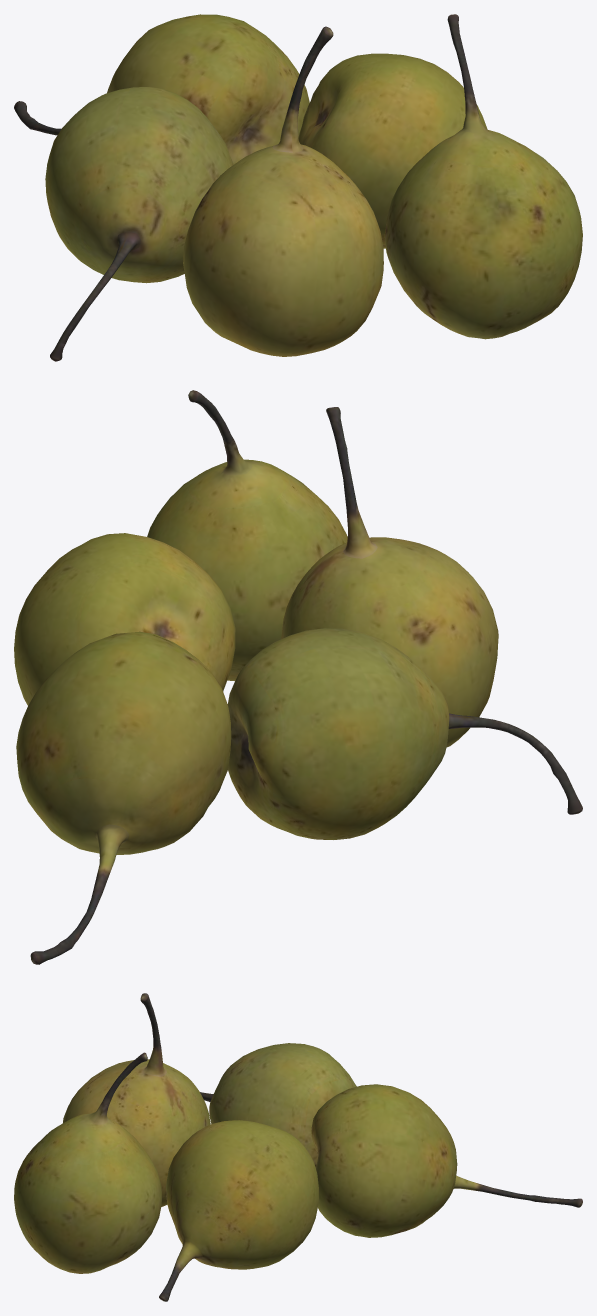
The model's file is food_pears_asian_01.glb.
The picture shows the model from 3 angles, top to bottom: view 1: azimuth 30°, elevation 25°; view 2: azimuth 150°, elevation 25°; view 3: azimuth 270°, elevation 25°; orthographic projection. The views are drawn at different scales.
Parts seen in each view (by area): view 1: food_pears_asian_01_c, food_pears_asian_01_e, food_pears_asian_01_a, food_pears_asian_01_d, food_pears_asian_01_b; view 2: food_pears_asian_01_b, food_pears_asian_01_a, food_pears_asian_01_c, food_pears_asian_01_e, food_pears_asian_01_d; view 3: food_pears_asian_01_d, food_pears_asian_01_b, food_pears_asian_01_e, food_pears_asian_01_a, food_pears_asian_01_c.
Boxes of the visible parts, box(x1,y1,x2,y2) form: food_pears_asian_01_c: box(183, 26, 383, 356); food_pears_asian_01_e: box(384, 14, 582, 339); food_pears_asian_01_a: box(45, 87, 233, 361); food_pears_asian_01_d: box(298, 53, 487, 248); food_pears_asian_01_b: box(14, 14, 309, 164); food_pears_asian_01_b: box(16, 631, 231, 964); food_pears_asian_01_a: box(227, 628, 582, 839); food_pears_asian_01_c: box(281, 407, 498, 747); food_pears_asian_01_e: box(147, 390, 347, 681); food_pears_asian_01_d: box(14, 533, 235, 705); food_pears_asian_01_d: box(159, 1120, 318, 1301); food_pears_asian_01_b: box(311, 1084, 582, 1237); food_pears_asian_01_e: box(14, 1052, 161, 1273); food_pears_asian_01_a: box(200, 1043, 356, 1167); food_pears_asian_01_c: box(63, 993, 210, 1206).
Bounding box in the file's own units: 0.1262 × 0.0712 × 0.1669.
1 material, 1 textured.
